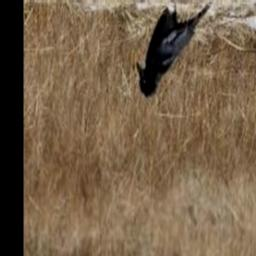Crow: (136, 0, 211, 100)
